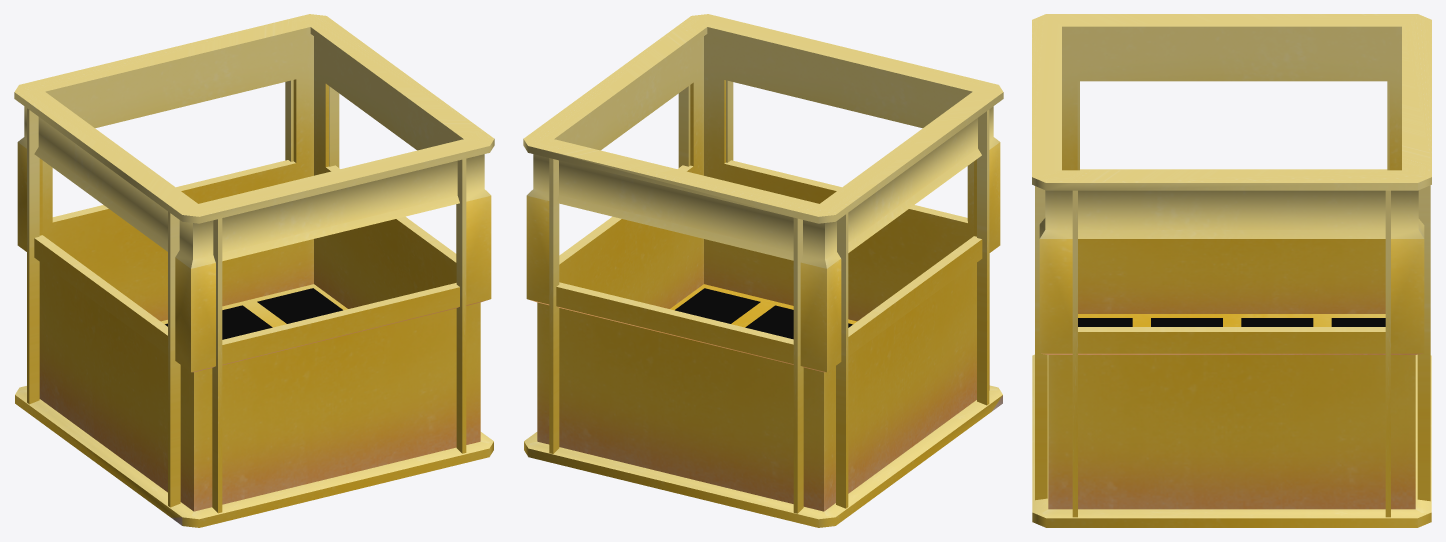
The model's file is beercase.fbx.
The picture shows the model from 3 angles, left to right: view 1: azimuth 30°, elevation 25°; view 2: azimuth 150°, elevation 25°; view 3: azimuth 270°, elevation 25°; orthographic projection. The views are drawn at different scales.
Visible parts, largest first — view 1: beercase; view 2: beercase; view 3: beercase.
Part boxes in pixels (bbox=[...]): beercase: bbox=[14, 14, 494, 527]; beercase: bbox=[523, 14, 1003, 527]; beercase: bbox=[1032, 14, 1431, 527].
Bounding box in the file's own units: 43.89 × 41.81 × 43.89.
